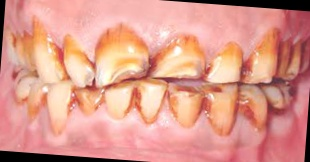Tooth Discoloration: (2, 6, 310, 103), (4, 62, 298, 156)
